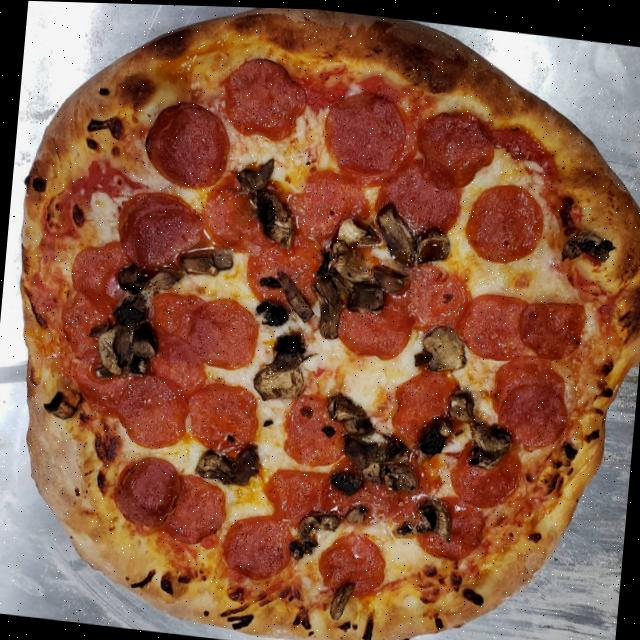mushrooms: (370, 197, 422, 270), (329, 212, 378, 281), (250, 182, 298, 243), (308, 271, 348, 341), (418, 319, 469, 373), (252, 359, 305, 402), (558, 224, 614, 264), (412, 494, 458, 542), (273, 269, 317, 319), (267, 329, 314, 375), (230, 149, 276, 196), (178, 239, 234, 276), (414, 410, 452, 464), (468, 415, 509, 465), (222, 441, 262, 487), (92, 320, 126, 372), (343, 279, 387, 319), (368, 257, 412, 294), (409, 223, 448, 264), (192, 444, 232, 480), (340, 432, 377, 470), (381, 459, 420, 494), (328, 576, 356, 621), (442, 385, 476, 422), (325, 465, 365, 496), (41, 386, 76, 420), (252, 294, 288, 327), (112, 293, 148, 325), (146, 259, 181, 291), (129, 321, 158, 356), (324, 392, 359, 421), (116, 264, 144, 293), (342, 411, 372, 436), (360, 455, 386, 483), (378, 434, 408, 458), (295, 510, 318, 537), (288, 534, 316, 556), (316, 510, 336, 531), (345, 503, 365, 523), (127, 355, 145, 374)
pepperoni: (132, 93, 234, 193), (106, 183, 212, 278), (215, 48, 312, 143), (238, 223, 332, 316), (406, 100, 498, 192), (385, 360, 476, 453), (316, 85, 406, 178), (458, 172, 546, 265), (372, 148, 462, 238), (199, 170, 282, 256), (284, 166, 372, 245), (62, 234, 144, 318), (213, 504, 295, 584), (186, 289, 264, 373), (445, 430, 525, 511), (180, 376, 258, 458), (117, 369, 192, 453), (107, 449, 182, 532), (275, 385, 349, 469), (332, 285, 413, 361), (452, 281, 530, 359), (396, 254, 472, 334), (310, 524, 390, 598), (485, 347, 570, 416), (135, 319, 211, 395), (318, 453, 400, 523), (496, 375, 570, 452), (158, 466, 228, 546), (412, 489, 488, 561), (258, 459, 335, 529), (516, 289, 588, 362), (56, 287, 114, 366), (72, 349, 130, 420), (144, 281, 204, 345)
pizza: (0, 0, 640, 640)
